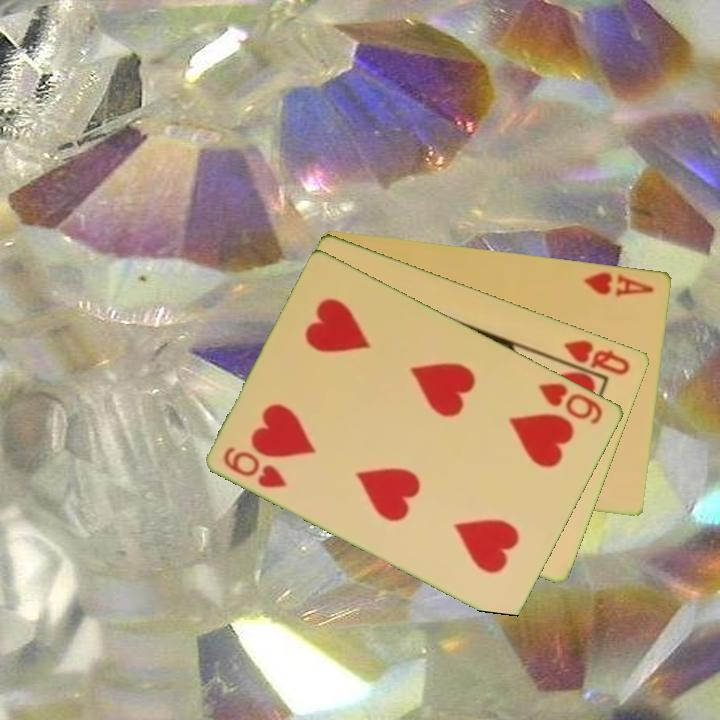6h: (220, 442, 290, 491), (535, 379, 606, 427)
Ah: (581, 268, 658, 299)
Qh: (560, 336, 634, 378)
